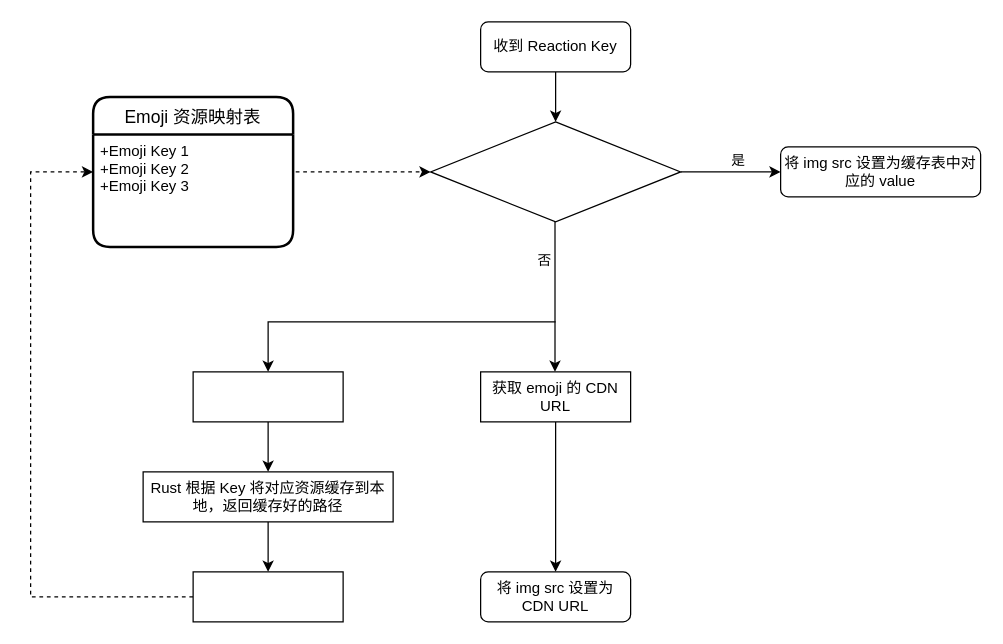
This 1003x644 diagram has some shape labels left out. Each missing label, with the centre of its shape:
"前端根据 Rust 的响应更新缓存表" belongs at (267,596).
"缓存表中存在该 Key" belongs at (555,171).
"通知 Rust 缓存该 Reaction Key" belongs at (267,396).
